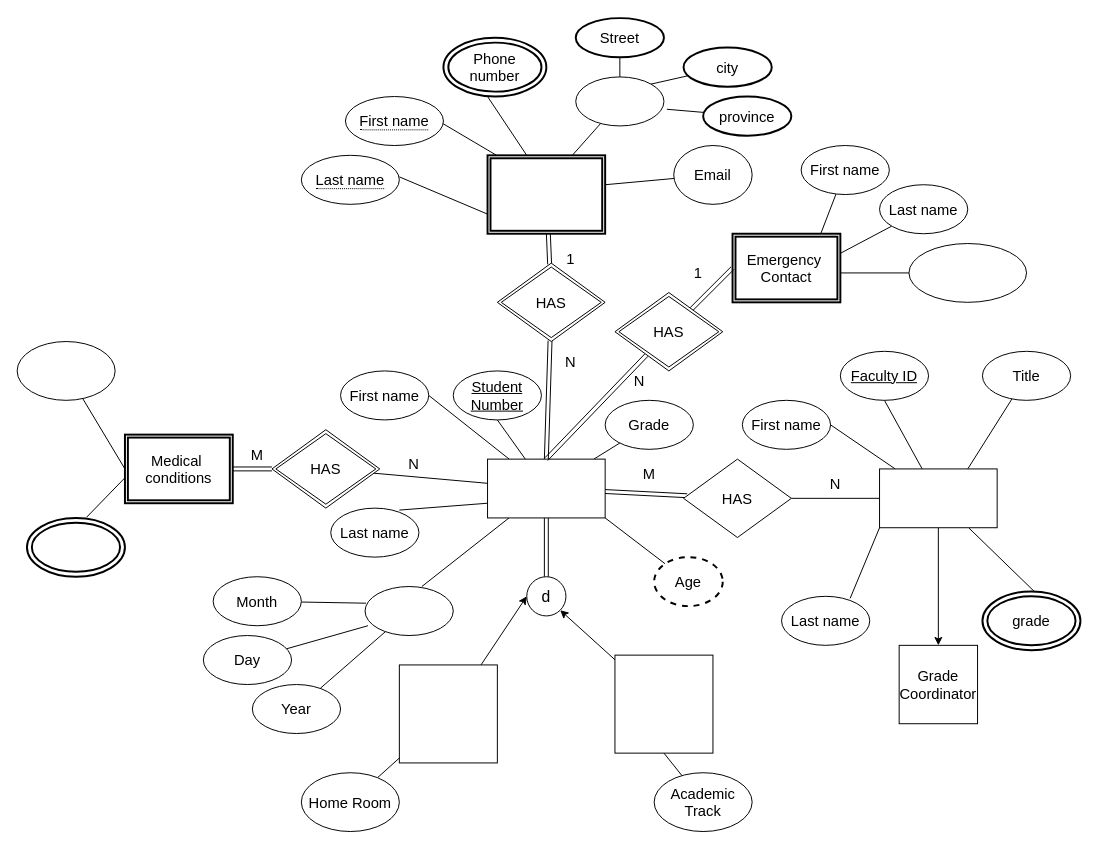
Some shapes in this 1099 by 849 pixel diagram are drawn without their labels. Here are the shapes that lost their labels. From the top down, the centre of each, then its label:
point 619,101: Address
point 546,194: Parents/ Guardian
point 967,272: Primary Phone number
point 65,370: Medical Records
point 546,488: Student
point 938,498: Teacher
point 75,546: Treatment Protocols
point 408,611: Birthday
point 447,713: Junior High Student (grade 7 to 9)
point 663,703: Senior High Student (grade 10 to 12)
